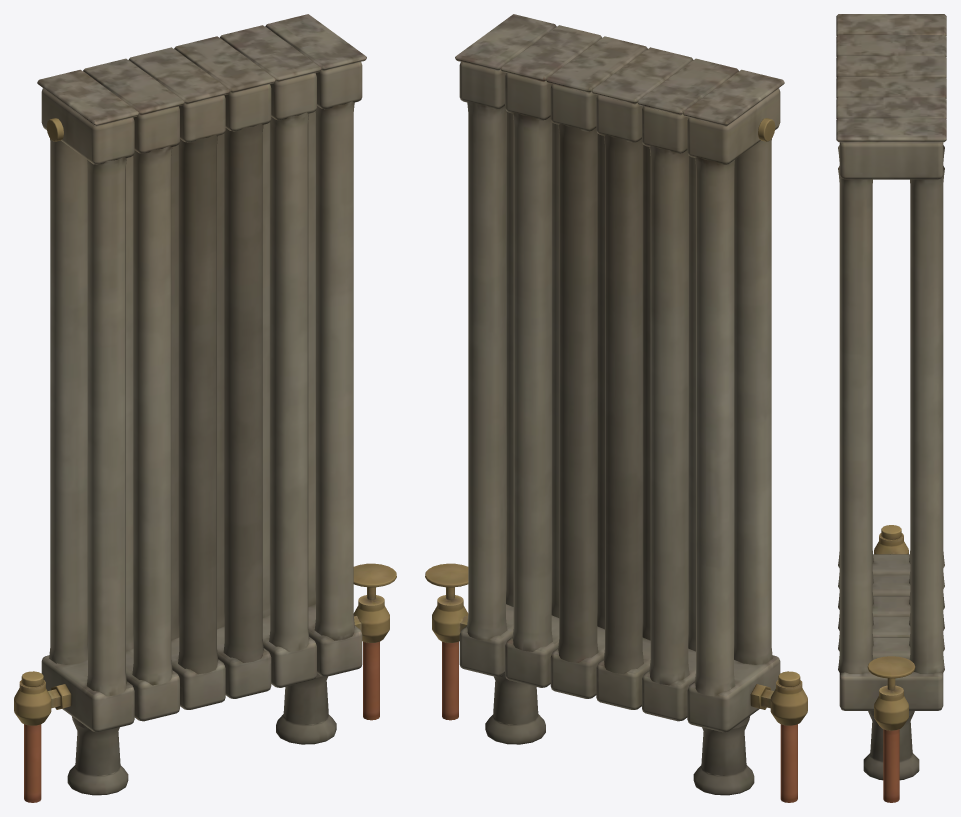
The model's file is column-radiator-6.glb.
3 views of the same model, side by side, from view 1: azimuth 30°, elevation 25°; view 2: azimuth 150°, elevation 25°; view 3: azimuth 270°, elevation 25° (orthographic). The views are drawn at different scales.
Visible parts, largest first — view 1: radiator, valve_wheel; view 2: radiator, valve_wheel; view 3: radiator, valve_wheel.
Boxes of the visible parts, x1,y1,x2,y2 form: radiator: (14,14,389,802); valve_wheel: (353,563,396,599); radiator: (432,14,807,802); valve_wheel: (425,563,468,599); radiator: (836,14,946,802); valve_wheel: (867,656,915,690).
Size of the model in its own units: 0.393 by 0.6875 by 0.106.
1 material, 1 textured.
